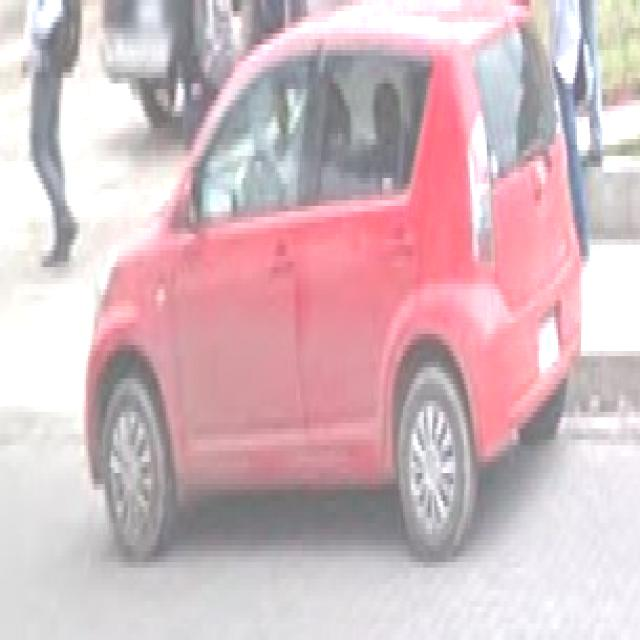car: (86, 21, 584, 573)
